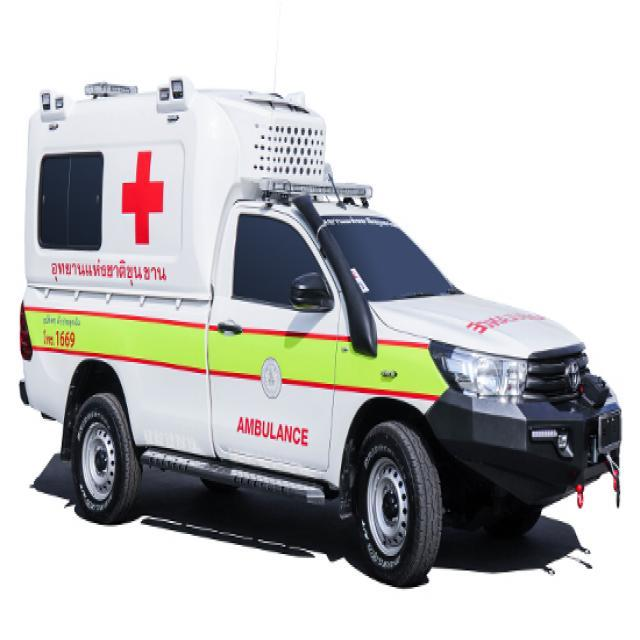emergency-vehicle: (6, 74, 630, 582)
